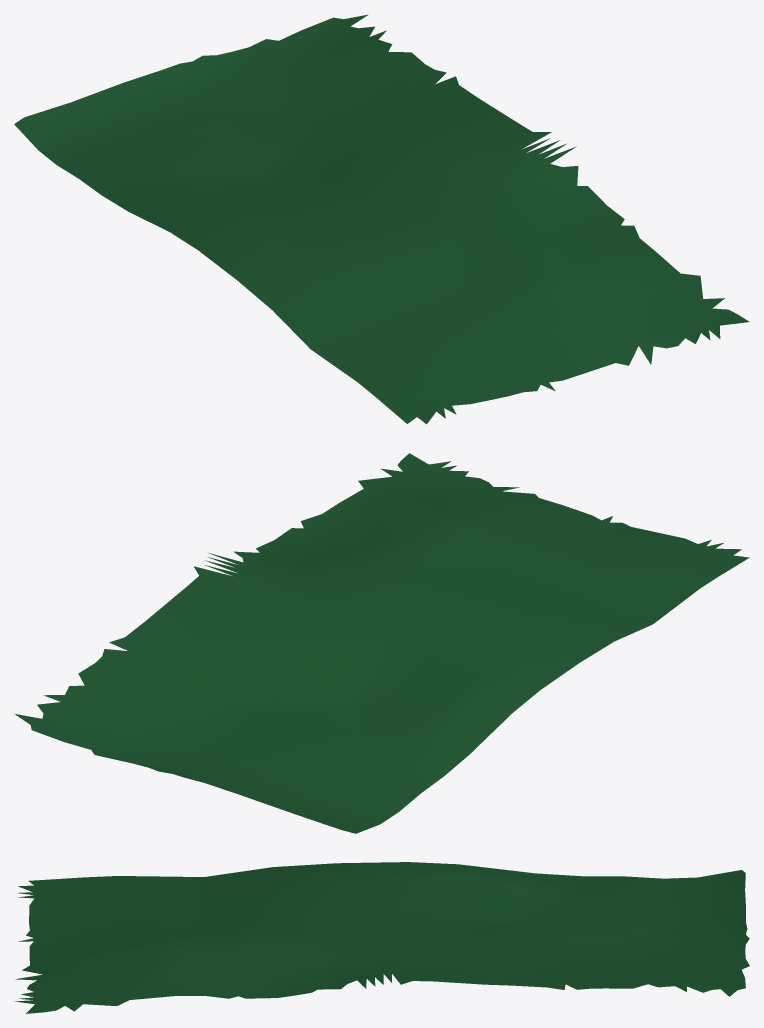
Rendered from payo_land_x4_y0_lod2.glb.
3 views of the same model, one above another, from view 1: azimuth 30°, elevation 25°; view 2: azimuth 150°, elevation 25°; view 3: azimuth 270°, elevation 25° (orthographic). The views are drawn at different scales.
Parts seen in each view (by area): view 1: payo_land_x4_y0; view 2: payo_land_x4_y0; view 3: payo_land_x4_y0.
Boxes of the visible parts, bbox=[...] form: payo_land_x4_y0: bbox=[14, 14, 749, 424]; payo_land_x4_y0: bbox=[15, 453, 749, 833]; payo_land_x4_y0: bbox=[14, 862, 749, 1013].
Bounding box in the file's own units: 133 × 20.09 × 262.
